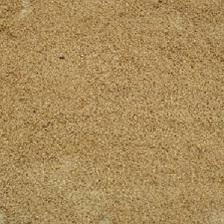sandy_soil: (12, 16, 208, 211)
